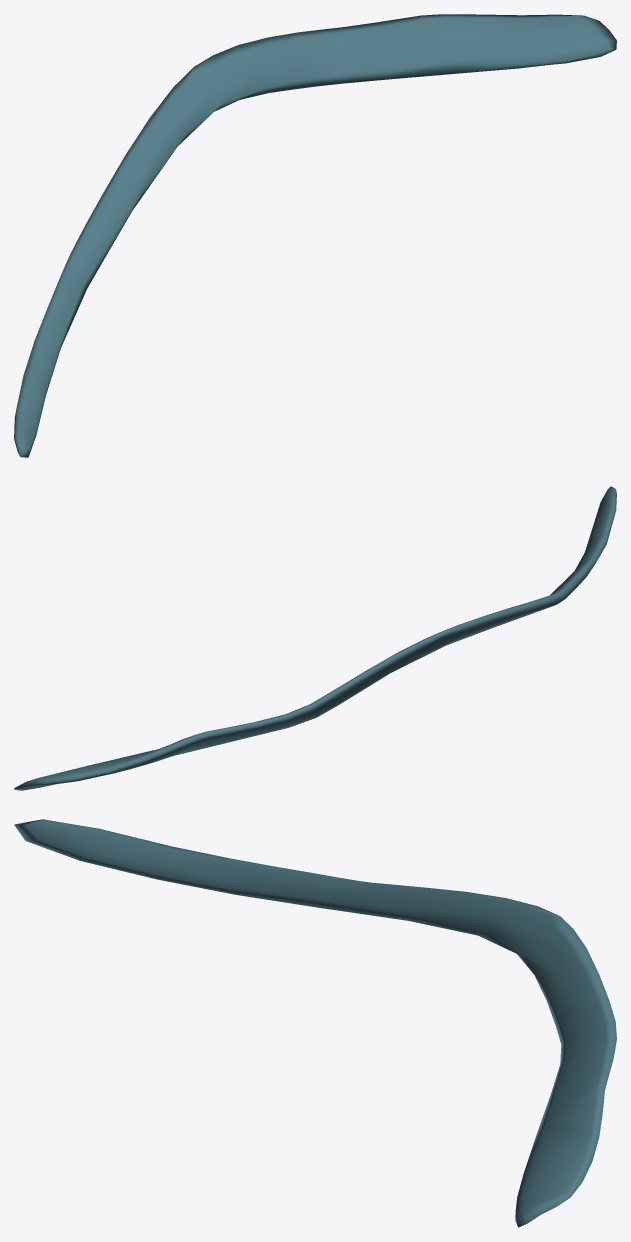
Rendered from Spinalis_capitis_muscle-Occipital_insertion.r_Generated_Mesh_Fr.glb.
3 renders of one model, top to bottom at view 1: azimuth 30°, elevation 25°; view 2: azimuth 210°, elevation 25°; view 3: azimuth 270°, elevation 25°, orthographic. The views are drawn at different scales.
Visible parts, largest first — view 1: Spinalis_capitis_muscle-Occipital_insertion.r_Generated_Mesh; view 2: Spinalis_capitis_muscle-Occipital_insertion.r_Generated_Mesh; view 3: Spinalis_capitis_muscle-Occipital_insertion.r_Generated_Mesh.
Boxes of the visible parts, left/top/right/bottom form: Spinalis_capitis_muscle-Occipital_insertion.r_Generated_Mesh: left=14, top=14, right=616, bottom=457; Spinalis_capitis_muscle-Occipital_insertion.r_Generated_Mesh: left=14, top=486, right=616, bottom=790; Spinalis_capitis_muscle-Occipital_insertion.r_Generated_Mesh: left=14, top=819, right=616, bottom=1227.
Size of the model in its own units: 0.0405 by 0.00623 by 0.0222.
